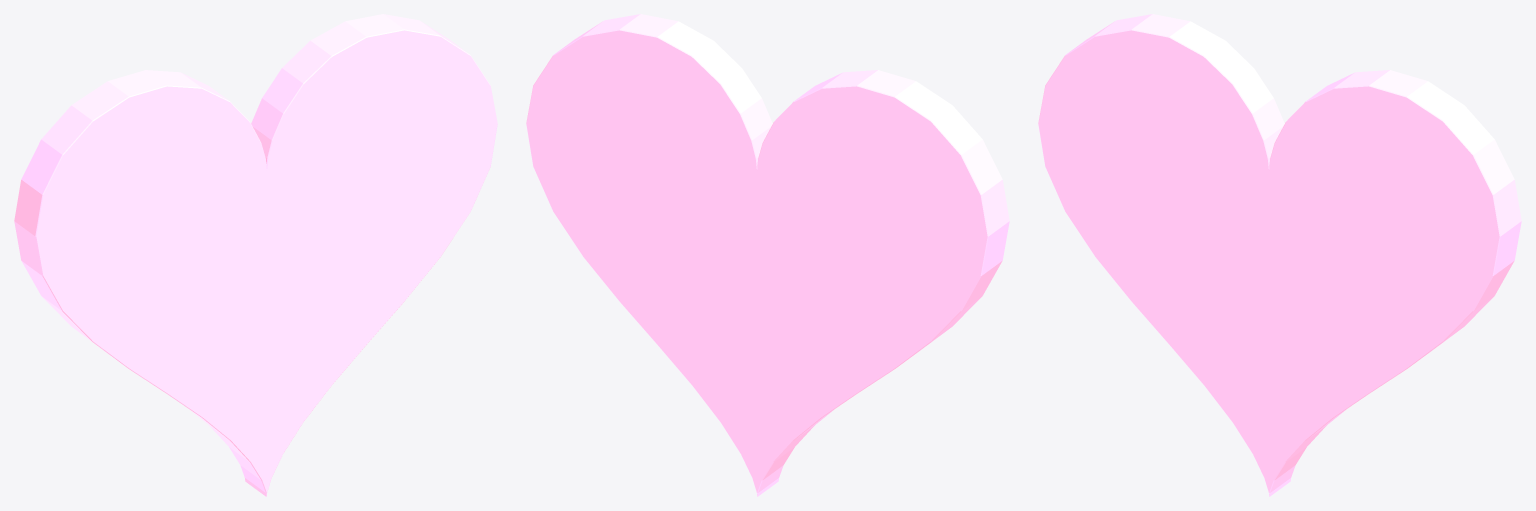
Rendered from fx_ally_heart.glb.
3 views of the same model, side by side, from view 1: azimuth 30°, elevation 25°; view 2: azimuth 150°, elevation 25°; view 3: azimuth 330°, elevation 25° (orthographic).
Parts seen in each view (by area): view 1: fx_ally_heart; view 2: fx_ally_heart; view 3: fx_ally_heart.
Boxes of the visible parts, x1,y1,x2,y2 form: fx_ally_heart: (14,14,497,496); fx_ally_heart: (526,14,1009,496); fx_ally_heart: (1038,14,1521,496).
Size of the model in its own units: 0.672 by 0.6052 by 0.055.
